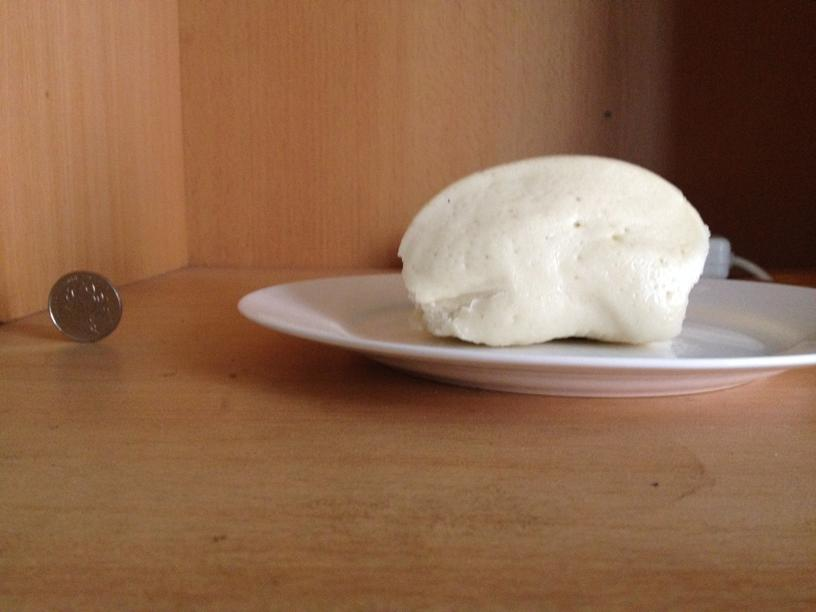bun: (395, 154, 708, 344)
coin: (47, 269, 122, 342)
